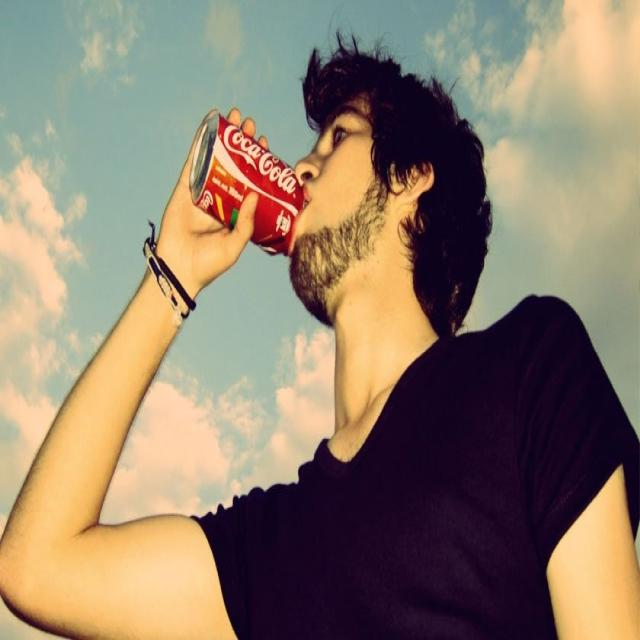coca cola: (215, 111, 302, 216)
